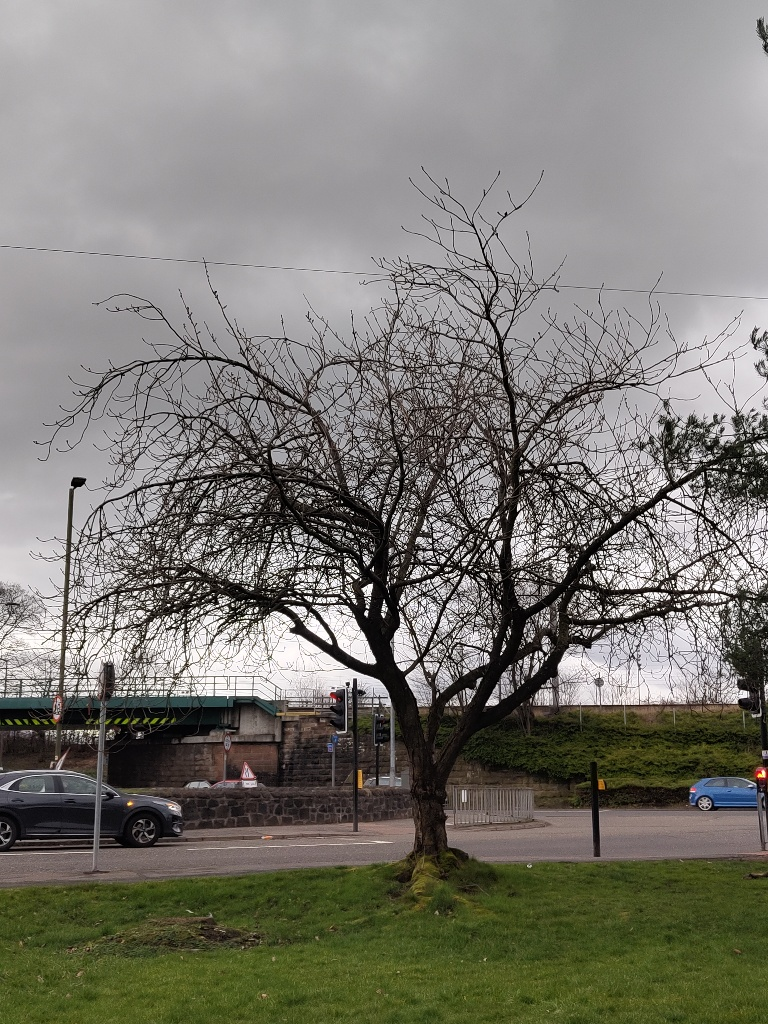Tree: (25, 161, 768, 922)
